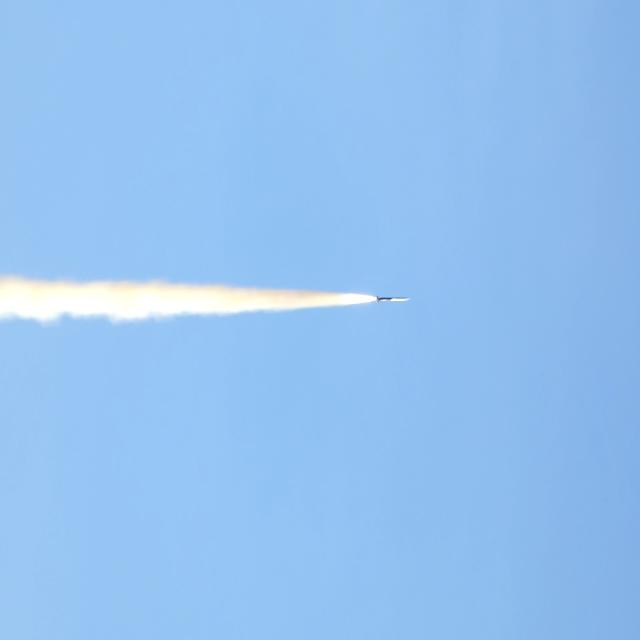Rocket: (376, 296, 410, 303)
